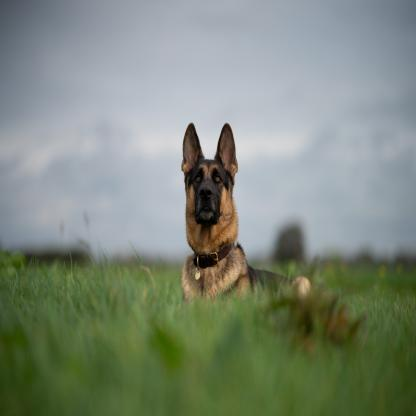dog: (181, 121, 319, 306)
